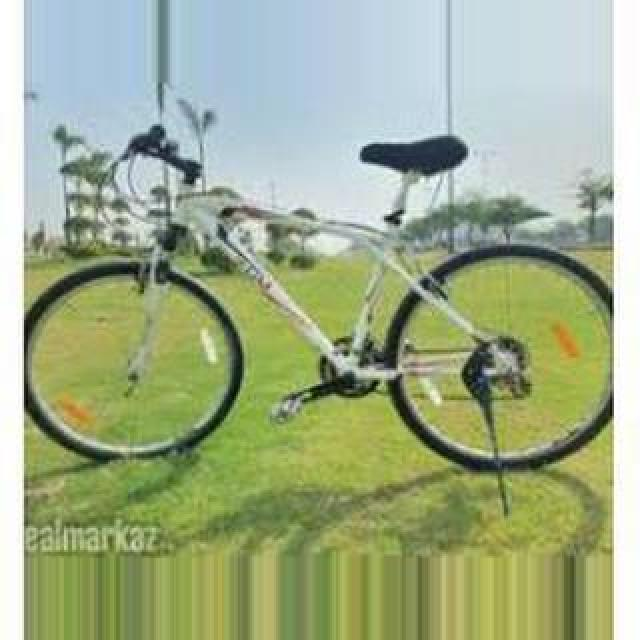Person: (24, 122, 616, 480)
